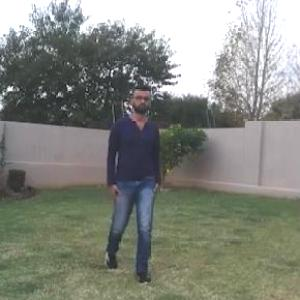follow: (111, 90, 161, 263)
